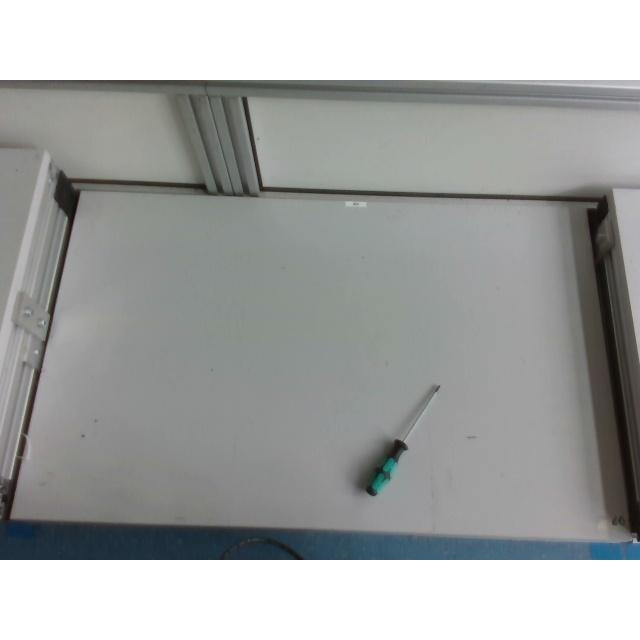Screwdriver: (365, 382, 439, 493)
